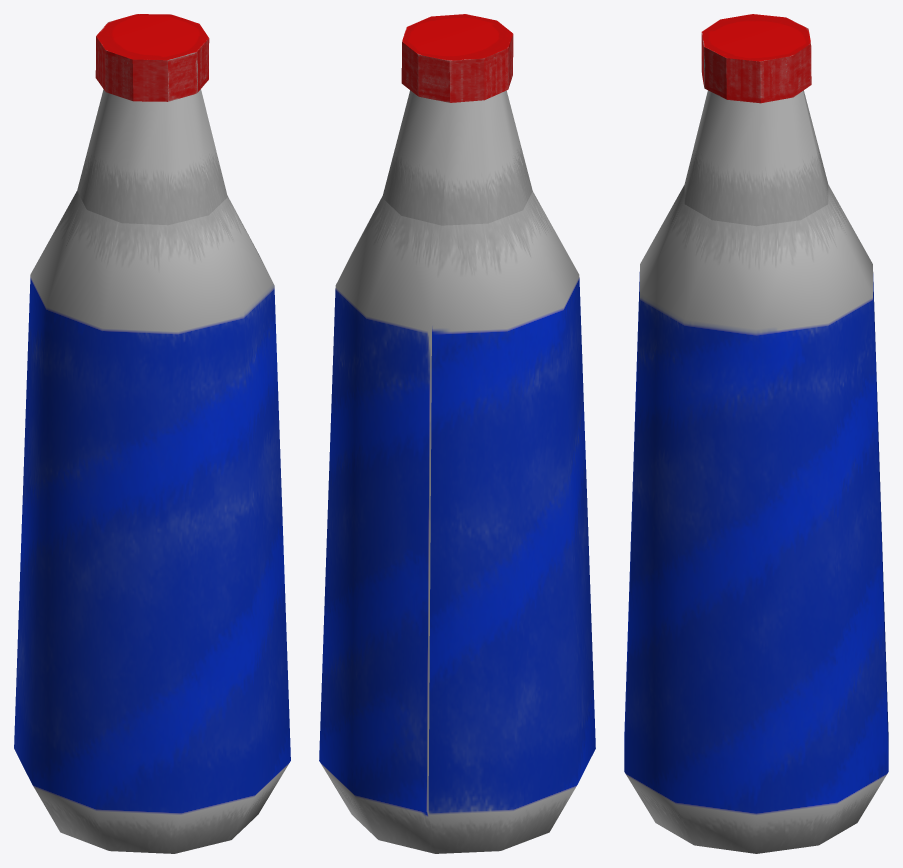
The model's file is plasticbottle.fbx.
The picture shows the model from 3 angles, left to right: view 1: azimuth 30°, elevation 25°; view 2: azimuth 150°, elevation 25°; view 3: azimuth 270°, elevation 25°; orthographic projection.
Parts seen in each view (by area): view 1: pCylinder1; view 2: pCylinder1; view 3: pCylinder1.
Part boxes in pixels (x1,y1,x2,y2): pCylinder1: [14, 14, 290, 853]; pCylinder1: [319, 14, 595, 853]; pCylinder1: [624, 14, 888, 853].
Bounding box in the file's own units: 1.93 × 5.92 × 1.84.
1 material, 1 textured.
